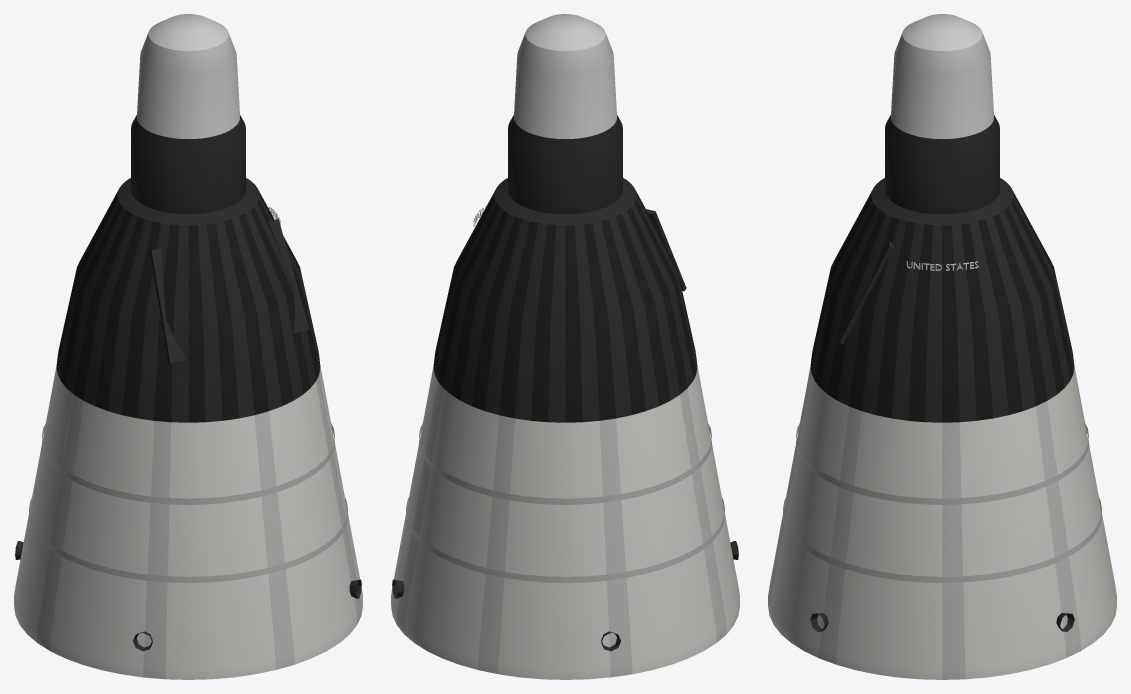
Rendered from gemini.glb.
3 views of the same model, side by side, from view 1: azimuth 30°, elevation 25°; view 2: azimuth 150°, elevation 25°; view 3: azimuth 270°, elevation 25° (orthographic).
Parts seen in each view (by area): view 1: model; view 2: model; view 3: model.
Part boxes in pixels (left/top/right/bottom): model: left=14, top=14, right=362, bottom=679; model: left=391, top=14, right=739, bottom=679; model: left=768, top=14, right=1116, bottom=679.
Size of the model in its own units: 3.04 by 5.62 by 3.04.
1 material, 1 textured.
